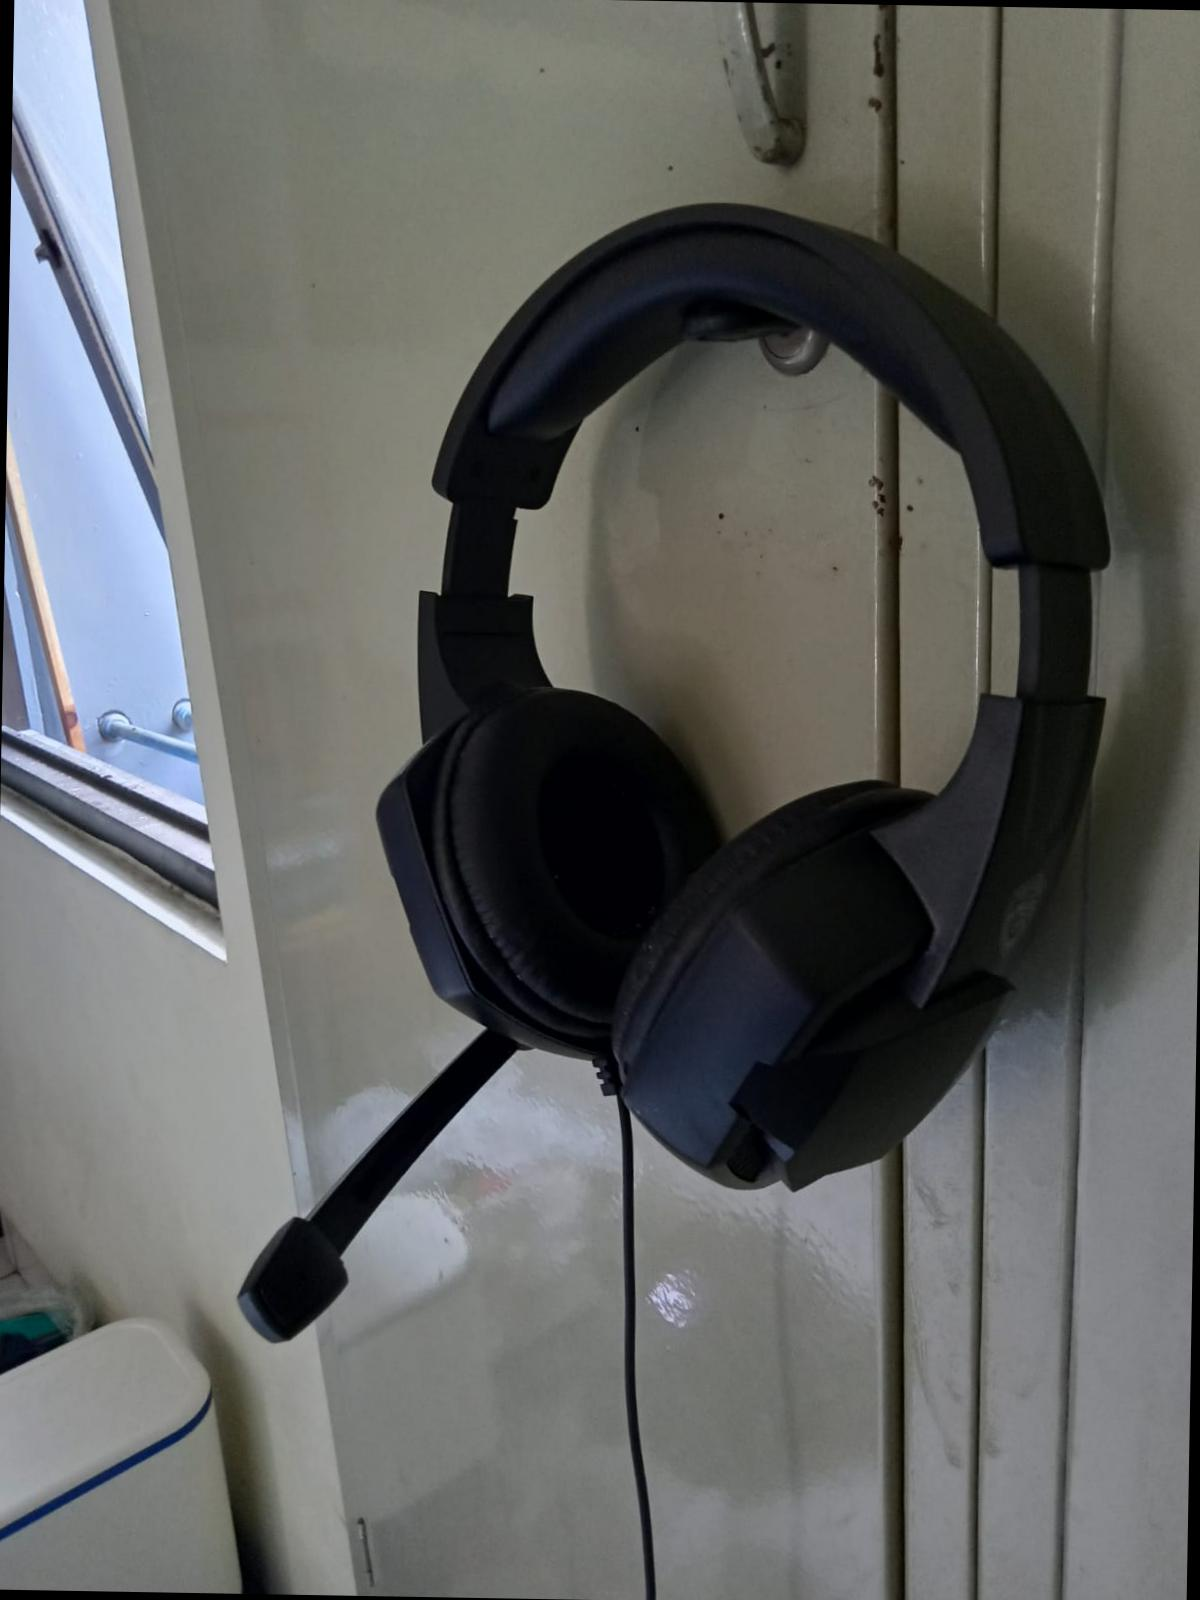Headset: (216, 175, 1129, 1359)
